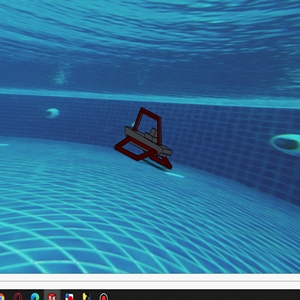submarine: (116, 106, 177, 171)
